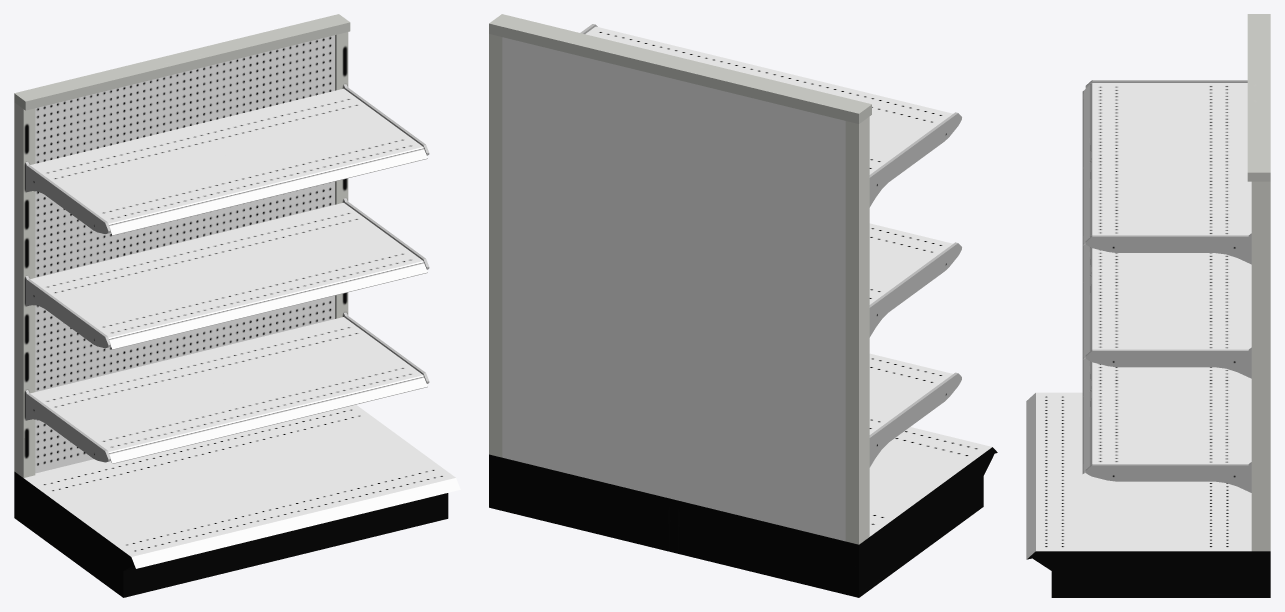
The model's file is retailshelf.fbx.
The picture shows the model from 3 angles, left to right: view 1: azimuth 30°, elevation 25°; view 2: azimuth 150°, elevation 25°; view 3: azimuth 270°, elevation 25°; orthographic projection. The views are drawn at different scales.
Visible parts, largest first — view 1: Shelf Backing, Shelving.001, Shelving, Shelving.002; view 2: Shelf Backing, Shelving.002, Shelving.001, Shelving; view 3: Shelf Backing, Shelving.002, Shelving, Shelving.001.
Boxes of the visible parts, bbox=[...] form: Shelf Backing: bbox=[14, 14, 460, 597]; Shelving.001: bbox=[25, 198, 429, 349]; Shelving: bbox=[25, 312, 429, 463]; Shelving.002: bbox=[25, 84, 429, 235]; Shelf Backing: bbox=[489, 14, 997, 597]; Shelving.002: bbox=[580, 24, 961, 207]; Shelving.001: bbox=[869, 223, 961, 337]; Shelving: bbox=[869, 353, 961, 467]; Shelf Backing: bbox=[1026, 14, 1270, 597]; Shelving.002: bbox=[1082, 80, 1251, 264]; Shelving: bbox=[1082, 358, 1251, 492]; Shelving.001: bbox=[1082, 244, 1251, 378].
Size of the model in its own units: 200 by 250 by 130.
